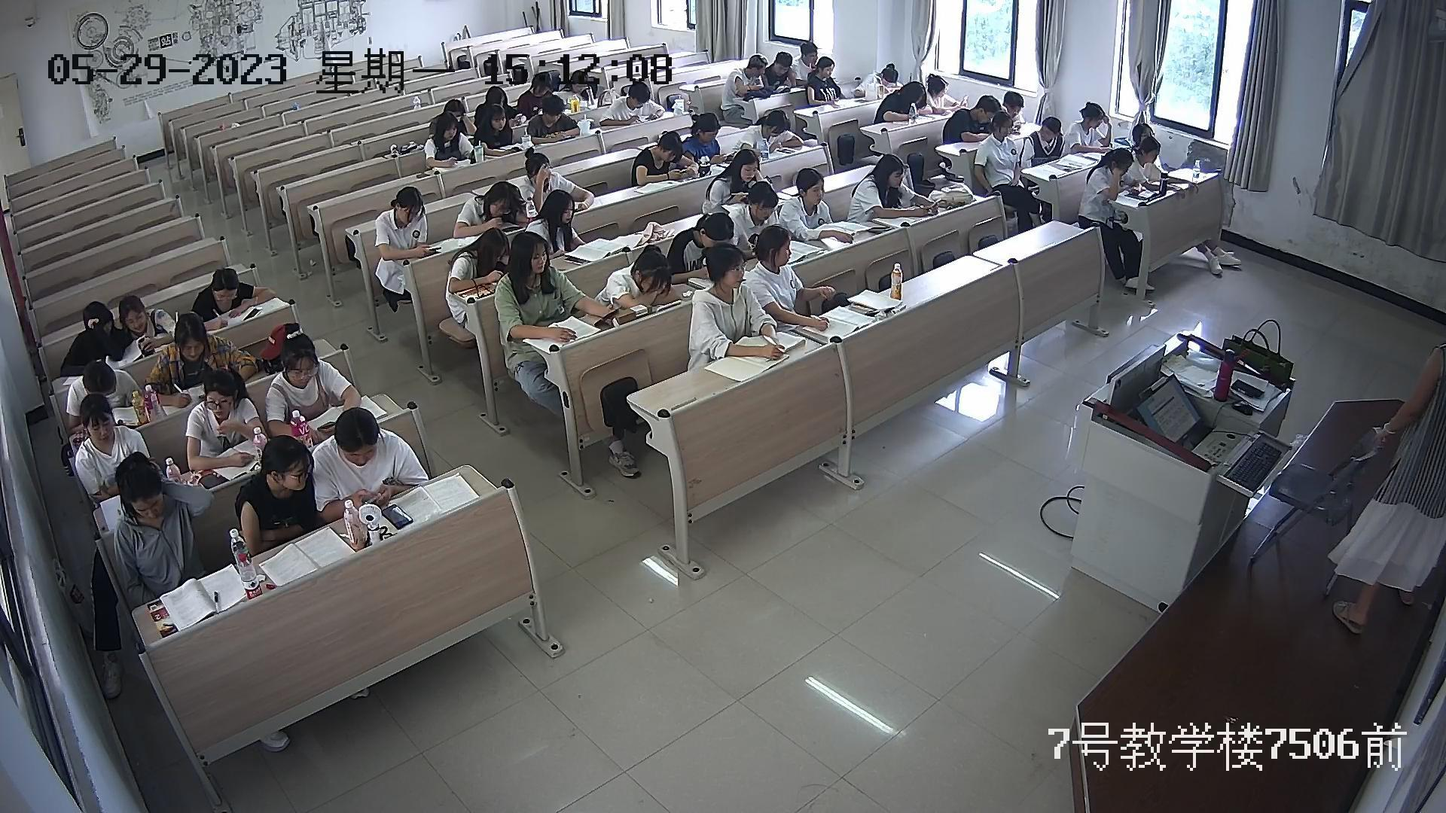Wave: (532, 162, 546, 212)
phone: (593, 306, 634, 327), (358, 486, 388, 511), (922, 195, 945, 216), (774, 141, 797, 159), (423, 238, 441, 258), (670, 162, 687, 180), (718, 145, 736, 159)
